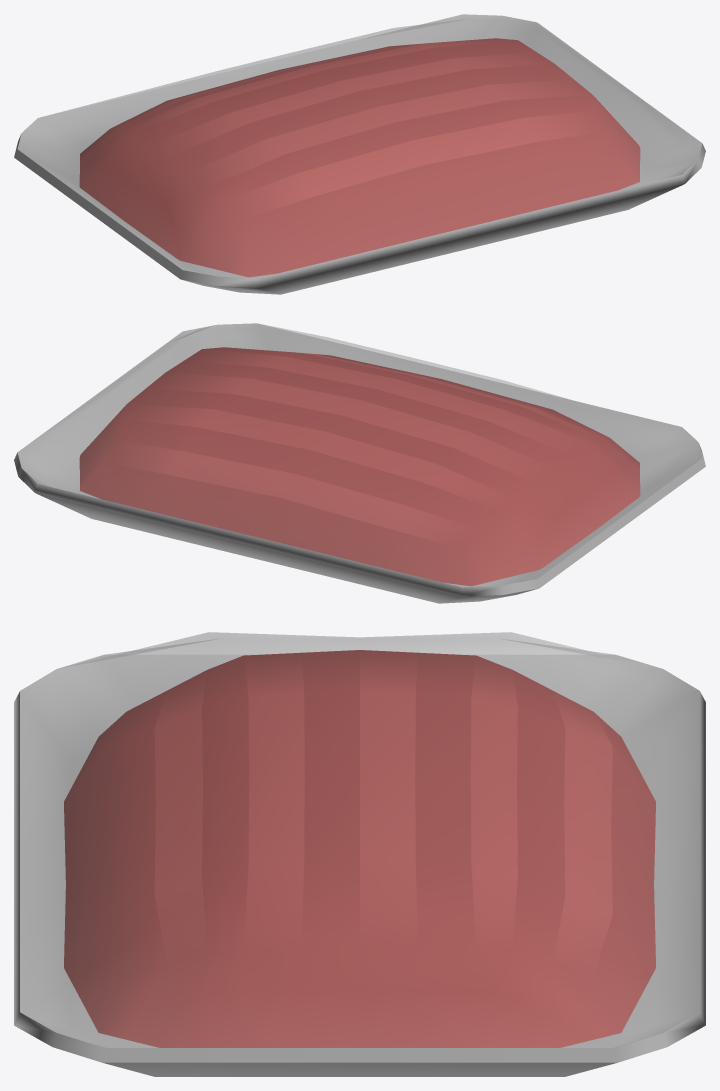
Rendered from consumables-meatsdairy-mincedmeat_v1.glb.
The picture shows the model from 3 angles, top to bottom: view 1: azimuth 30°, elevation 25°; view 2: azimuth 150°, elevation 25°; view 3: azimuth 270°, elevation 25°; orthographic projection. The views are drawn at different scales.
Visible parts, largest first — view 1: MincedMeat_base, MincedMeat_transp; view 2: MincedMeat_base, MincedMeat_transp; view 3: MincedMeat_base, MincedMeat_transp.
Part boxes in pixels (x1,y1,x2,y2): MincedMeat_base: (14, 14, 705, 294); MincedMeat_transp: (18, 14, 701, 278); MincedMeat_base: (14, 323, 705, 603); MincedMeat_transp: (18, 323, 701, 587); MincedMeat_base: (14, 650, 705, 1076); MincedMeat_transp: (20, 632, 699, 1047).
Size of the model in its own units: 0.1769 by 0.0333 by 0.1301.
